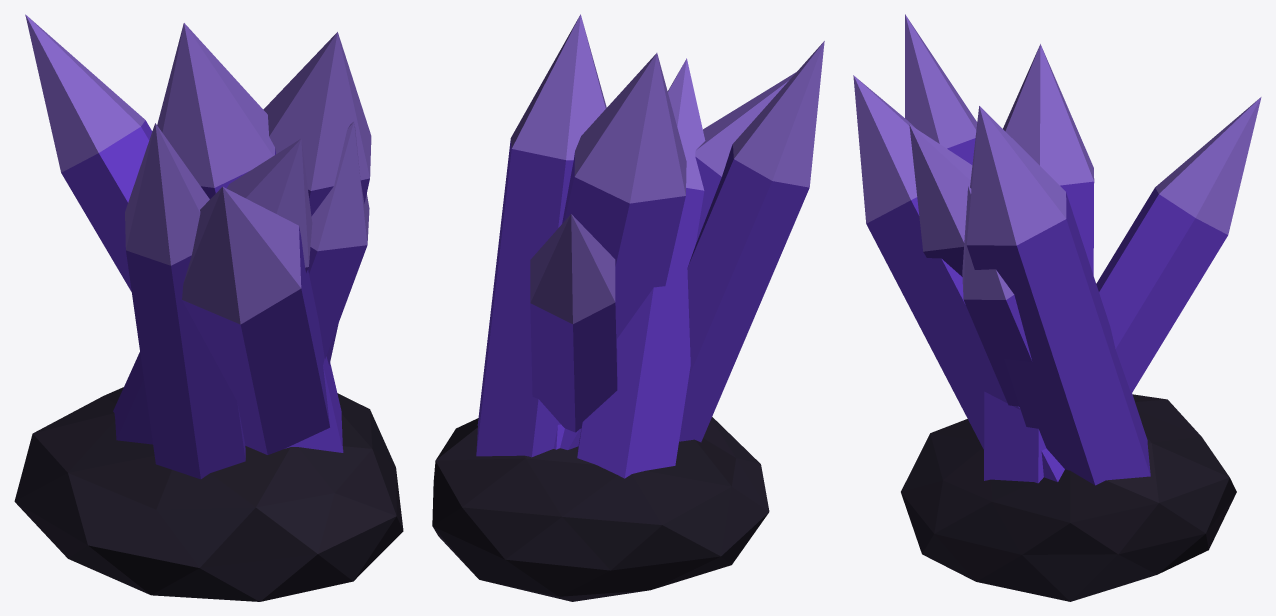
The model's file is voltaic_crystal.glb.
3 views of the same model, side by side, from view 1: azimuth 30°, elevation 25°; view 2: azimuth 150°, elevation 25°; view 3: azimuth 270°, elevation 25° (orthographic). The views are drawn at different scales.
Parts seen in each view (by area): view 1: Mesh; view 2: Mesh; view 3: Mesh.
Boxes of the visible parts, x1,y1,x2,y2 form: Mesh: (14,14,403,601); Mesh: (432,14,824,601); Mesh: (853,14,1261,601).
Size of the model in its own units: 0.3956 by 0.663 by 0.4828.
